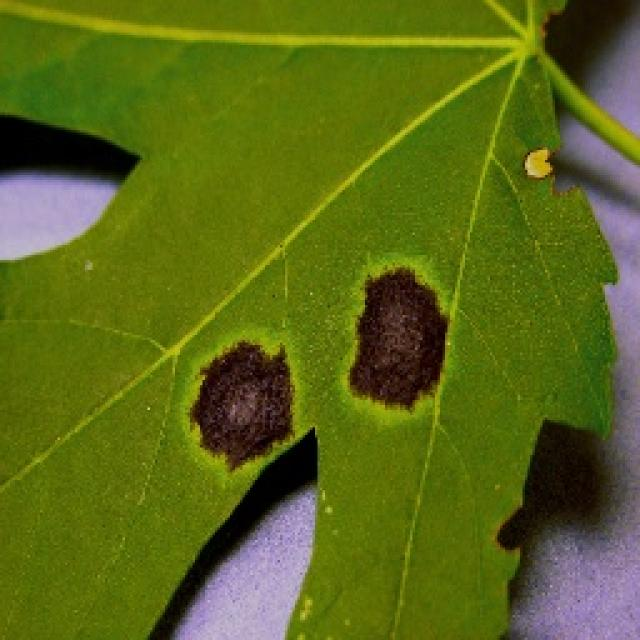Tar_Spot: (0, 0, 622, 637), (125, 174, 464, 483)
